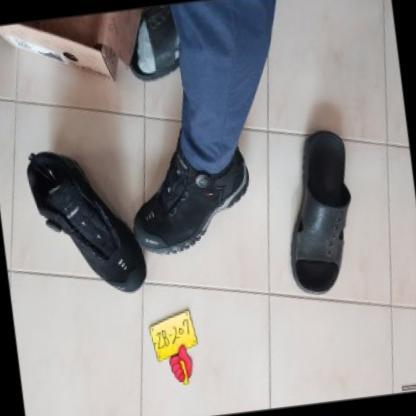safety-shoe: (116, 139, 255, 259)
